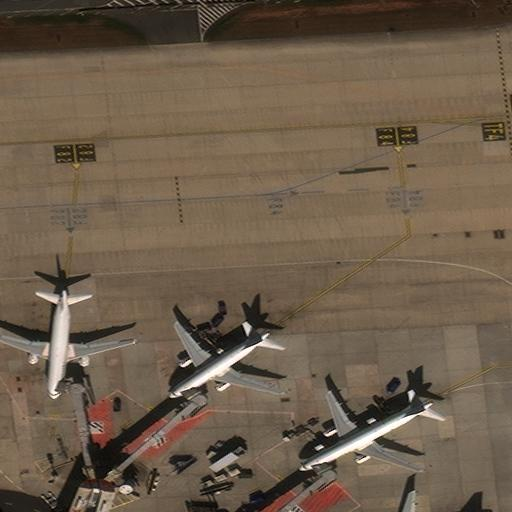Medium Civil Transport: (0, 289, 135, 399), (299, 393, 433, 472), (168, 323, 280, 396)
